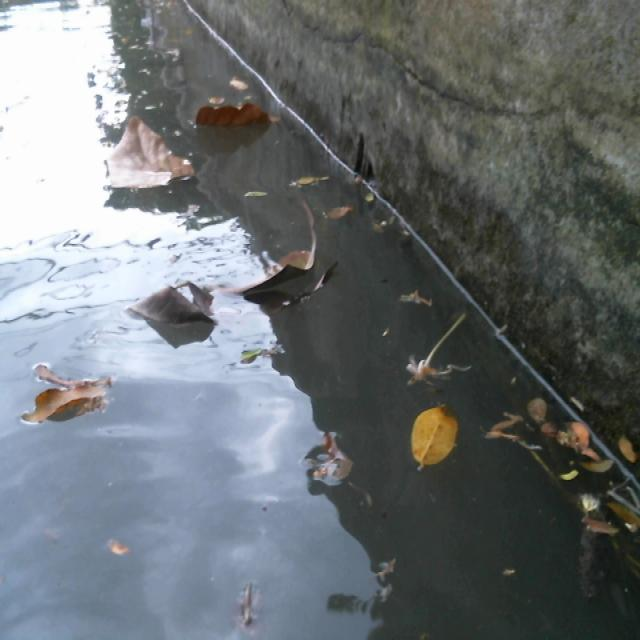Big-leaf: (116, 192, 332, 323), (27, 349, 128, 450), (97, 106, 199, 204), (195, 99, 284, 135)
Small-leaf: (300, 430, 359, 504), (399, 397, 454, 467), (238, 341, 305, 382), (223, 575, 263, 640), (558, 415, 606, 466), (581, 515, 623, 559), (574, 482, 618, 523), (282, 166, 344, 195), (609, 423, 637, 474), (95, 529, 133, 564), (402, 283, 445, 313), (235, 56, 270, 92), (321, 201, 362, 227), (557, 466, 587, 494), (237, 181, 274, 203), (525, 392, 547, 428)
